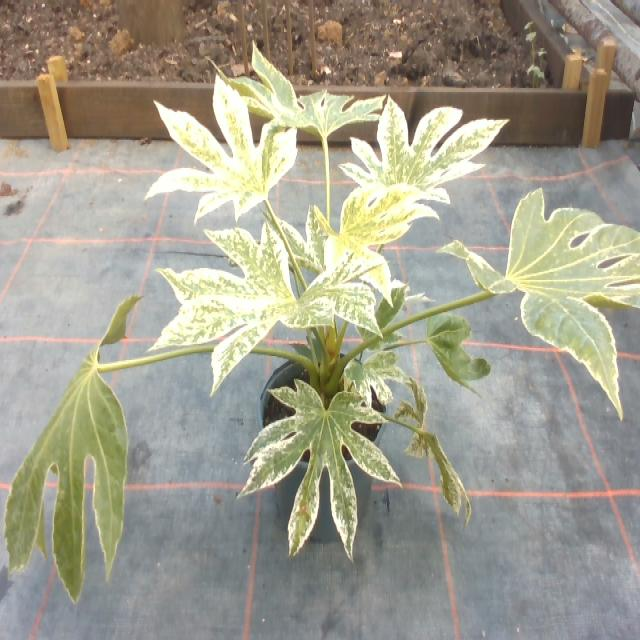Fatsia-japonica: (442, 169, 640, 410), (4, 288, 144, 602), (165, 226, 335, 386), (214, 33, 390, 161), (158, 72, 298, 226), (251, 371, 377, 542), (346, 81, 486, 231), (272, 184, 433, 292), (399, 382, 475, 529), (412, 298, 496, 420), (339, 342, 402, 404)
